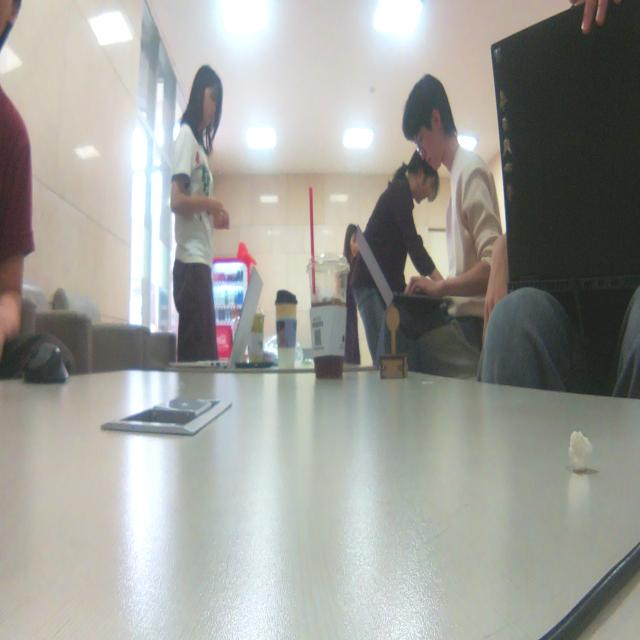target: (379, 306, 408, 378)
